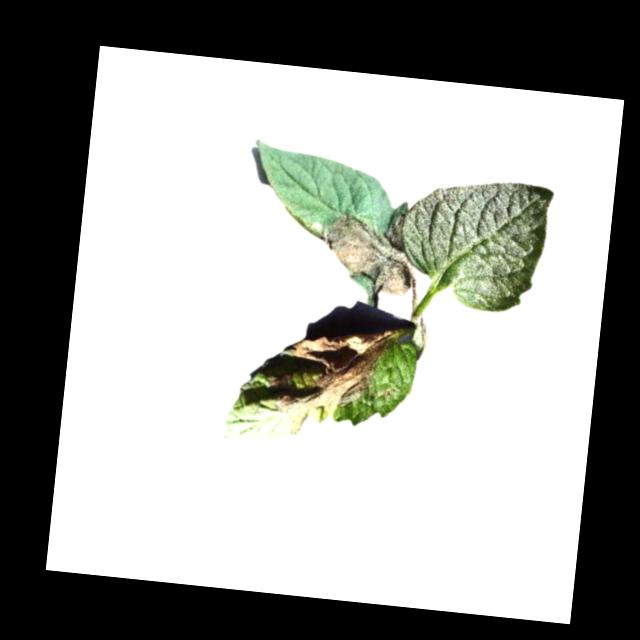Late_blight: (258, 315, 403, 445), (318, 210, 420, 298)
healthy: (395, 170, 554, 317)
